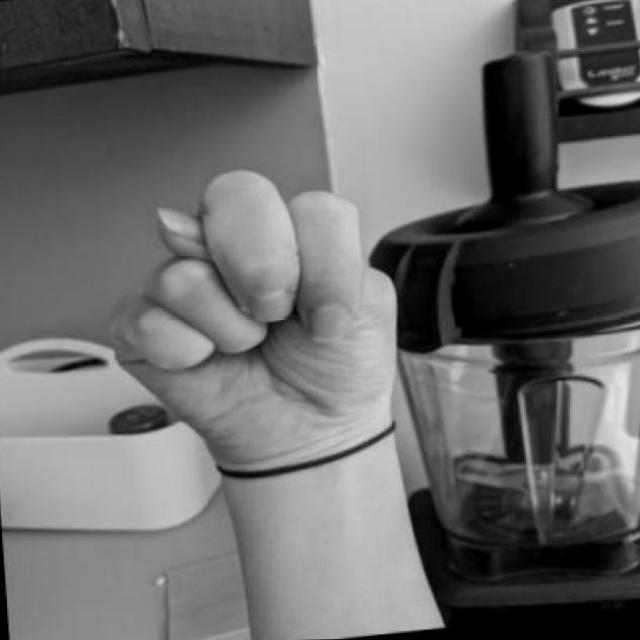N: (90, 158, 483, 504)
